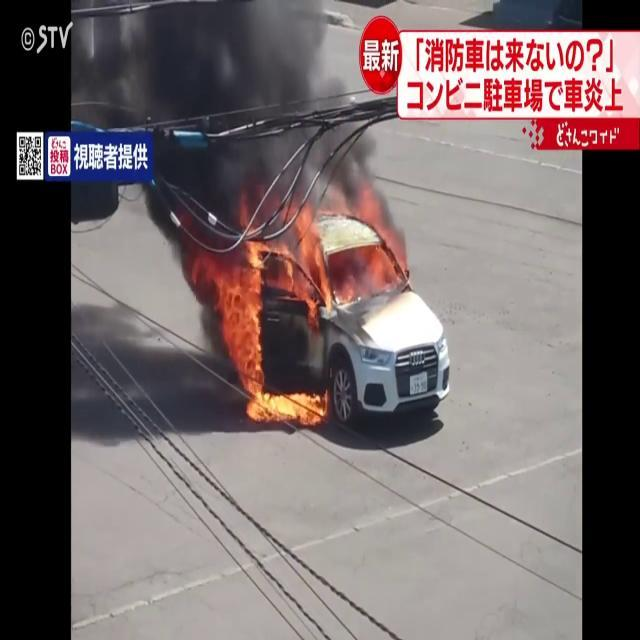Fire: (208, 205, 333, 424)
Smoke: (71, 1, 393, 211)
